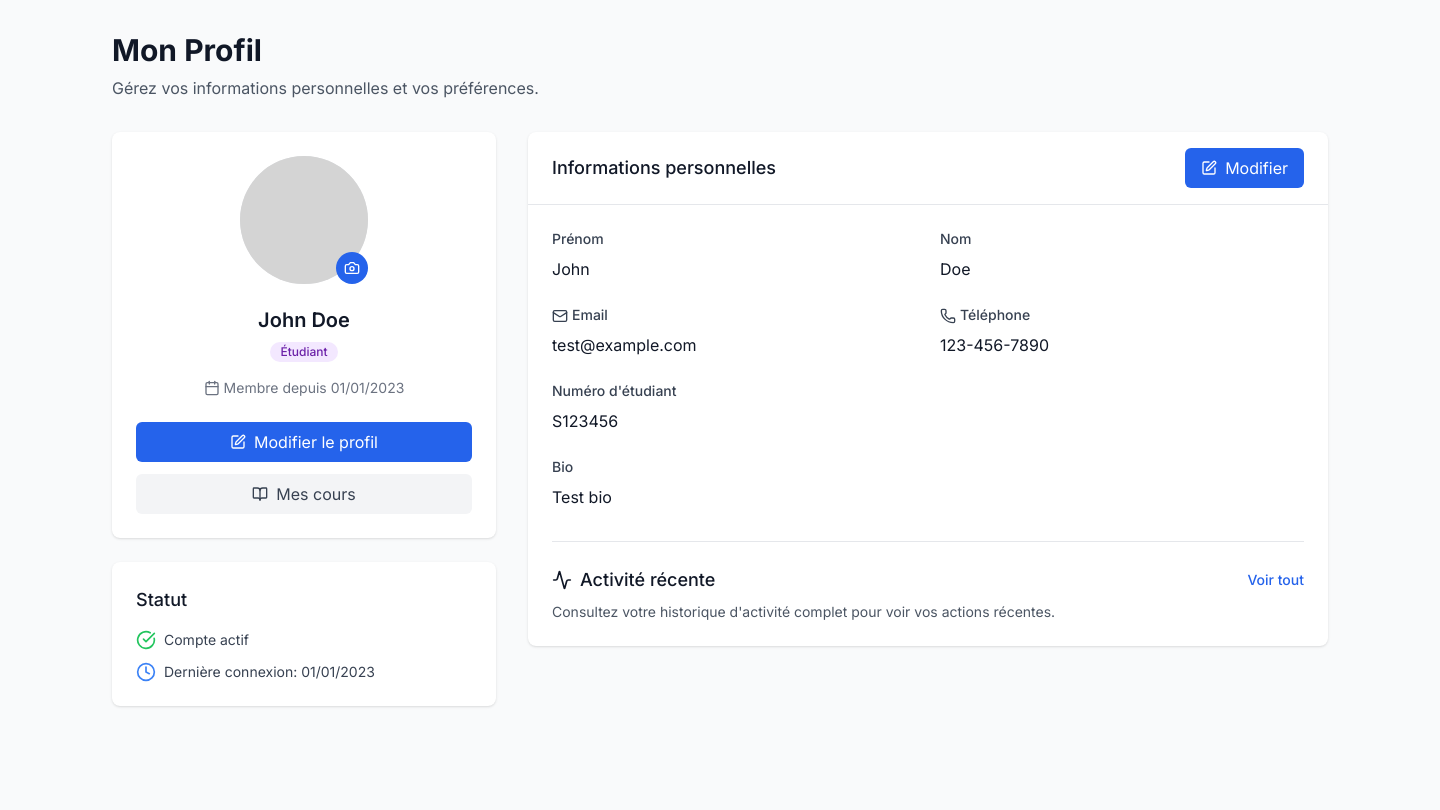
Test: ProfilePage Component › Profile Editing › should cancel editing and reset form
Enter edit mode
Click the button "Modifier".
click(1245, 168)  # box [1185, 148, 1304, 188]
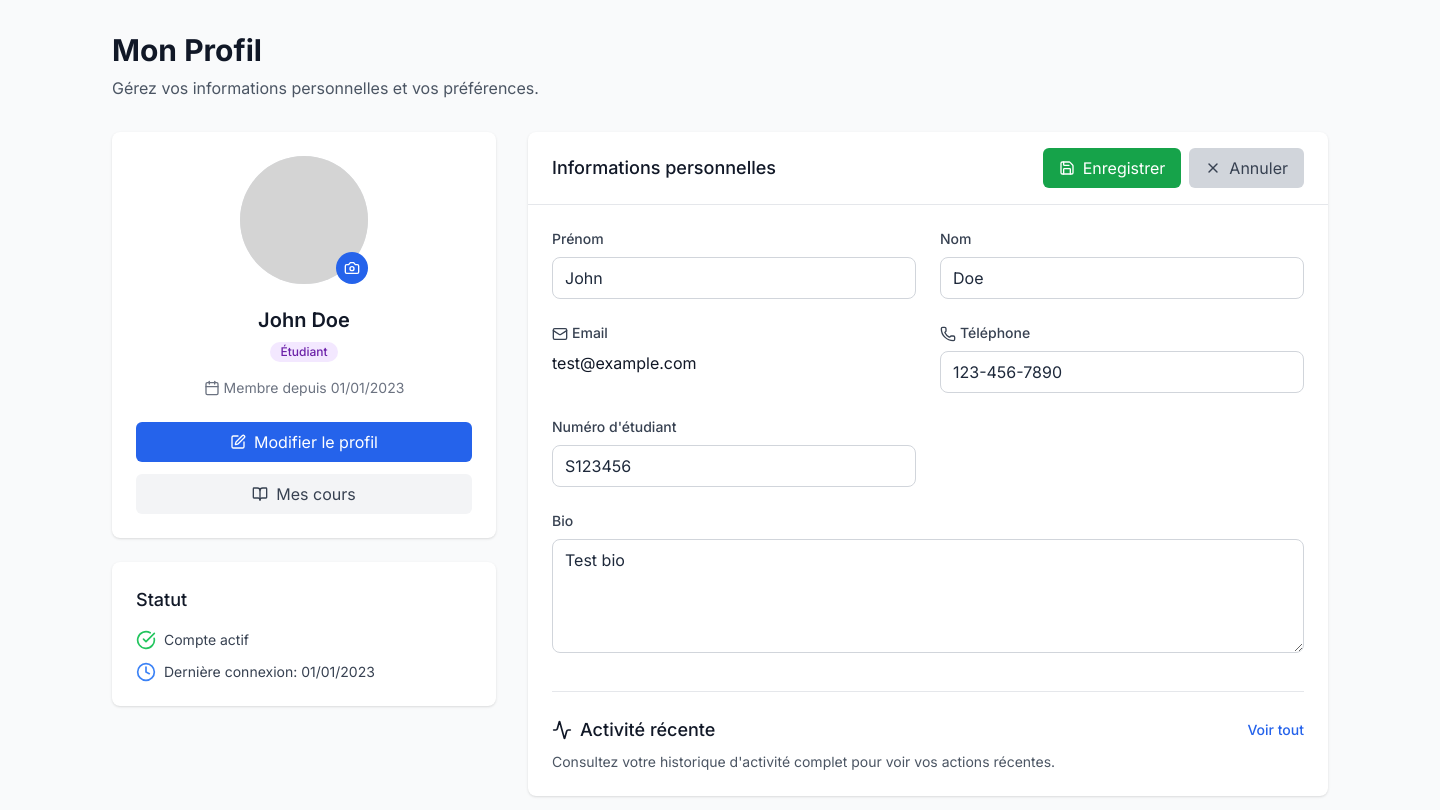
Update first name
Replace the text in the field showing "John" below "Prénom" with "Jane" at [734, 278], box [552, 257, 916, 299]
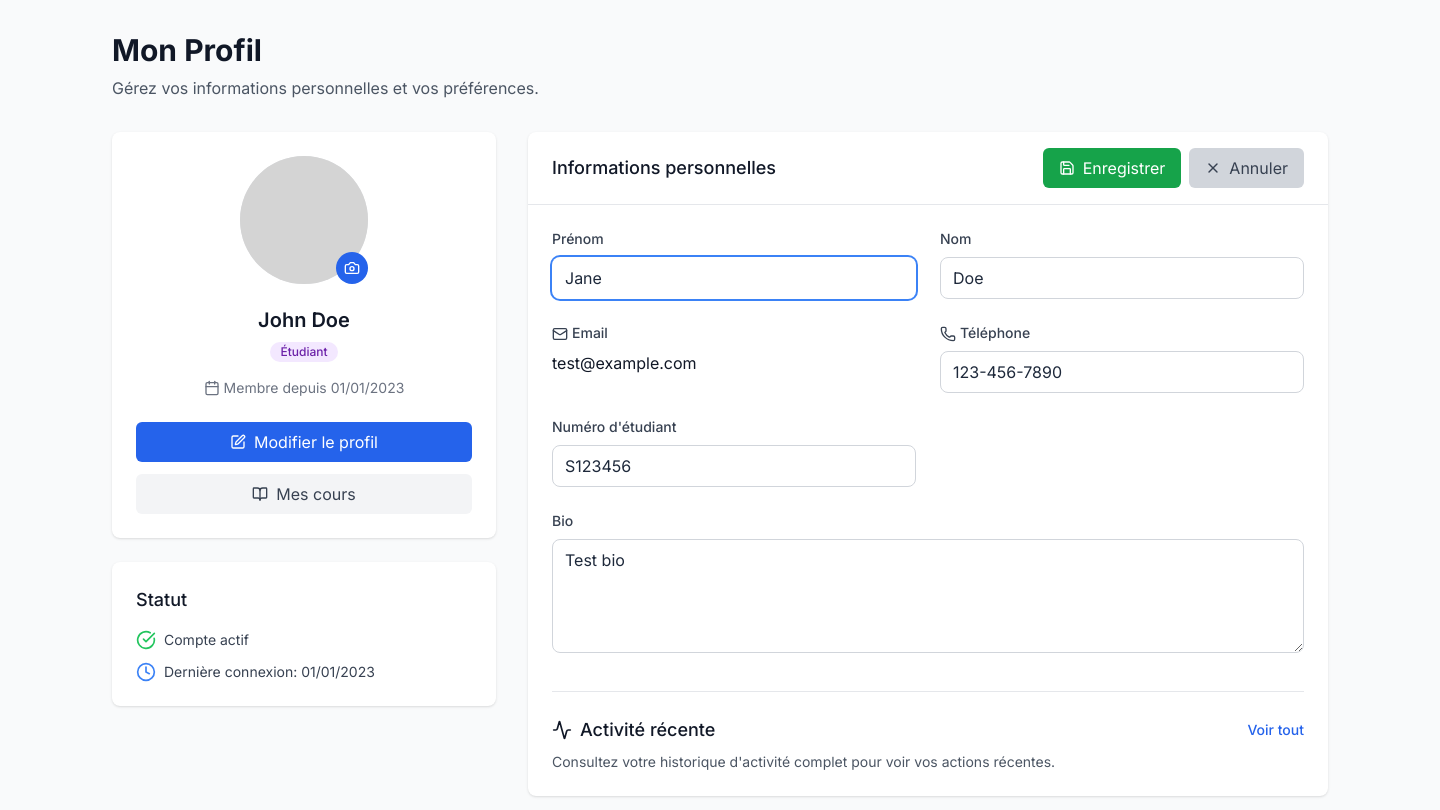
Cancel changes
Click the button "Annuler".
click(1247, 168)  # box [1189, 148, 1304, 188]
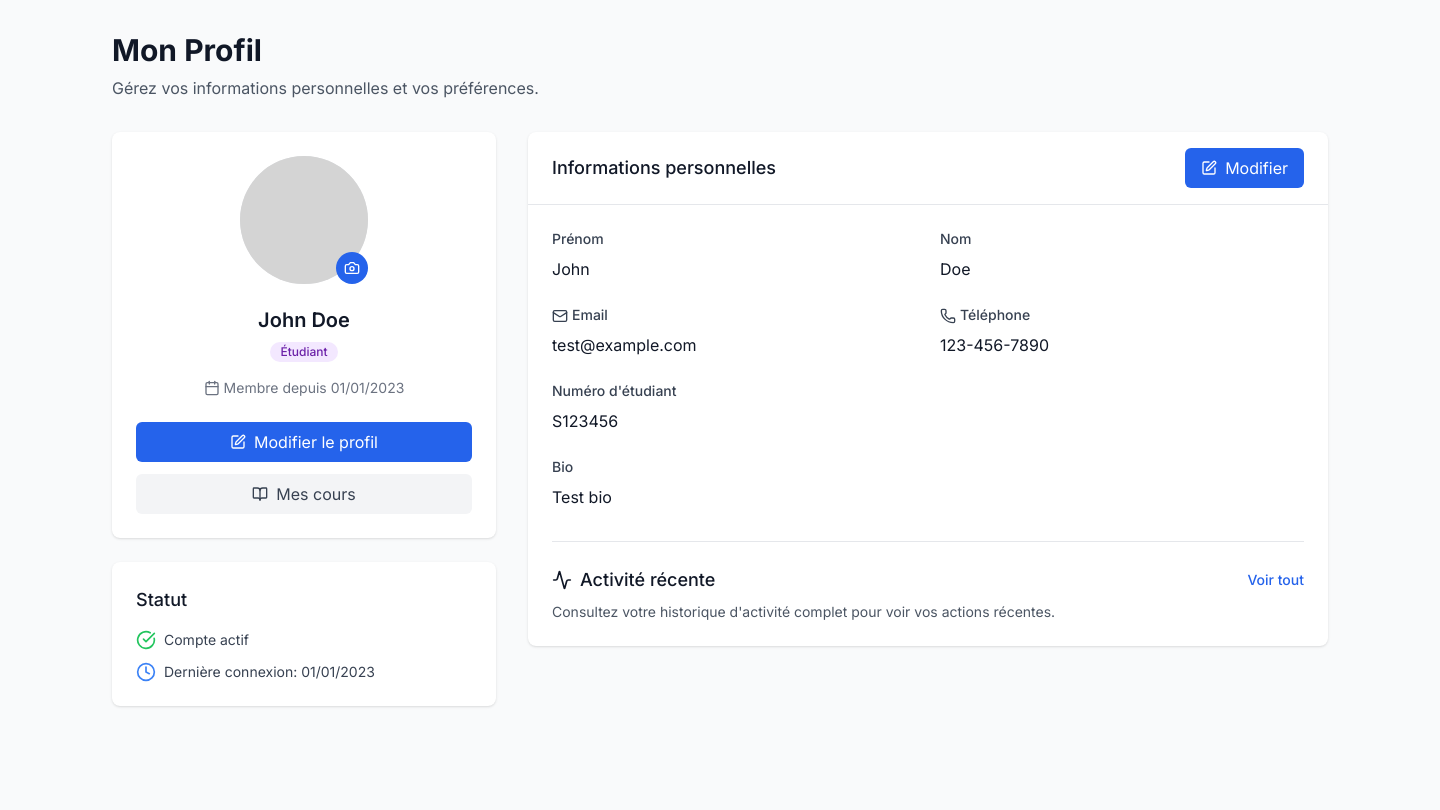
Check: the text "John" is shown, box [552, 259, 590, 279]
Check: the button "Modifier" is shown, box [1185, 148, 1304, 188]
